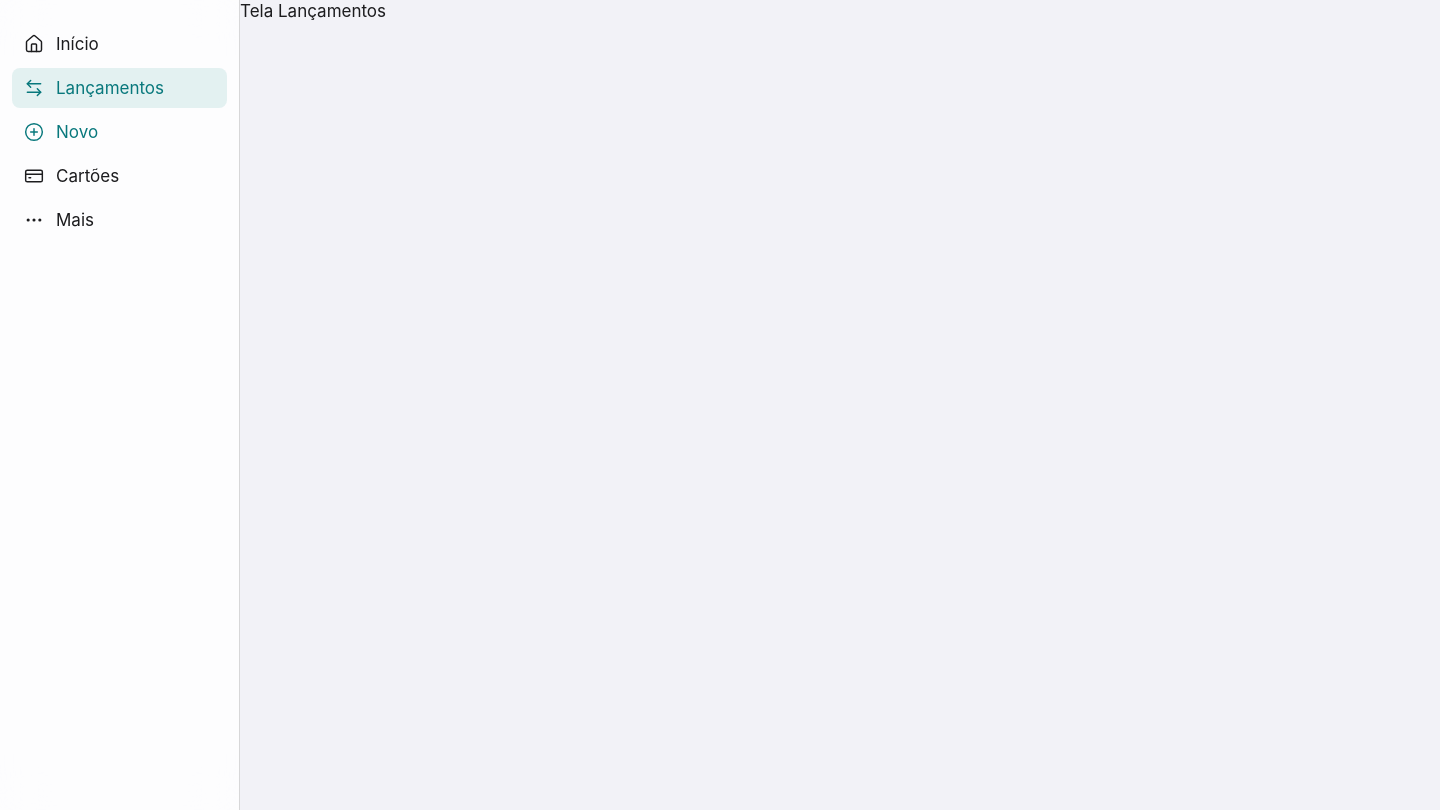
navegação principal › o ＋ abre a folha por cima, sem trocar de tela
Click the button with aria-label "Novo lançamento" at (120, 132), box [12, 112, 227, 152]
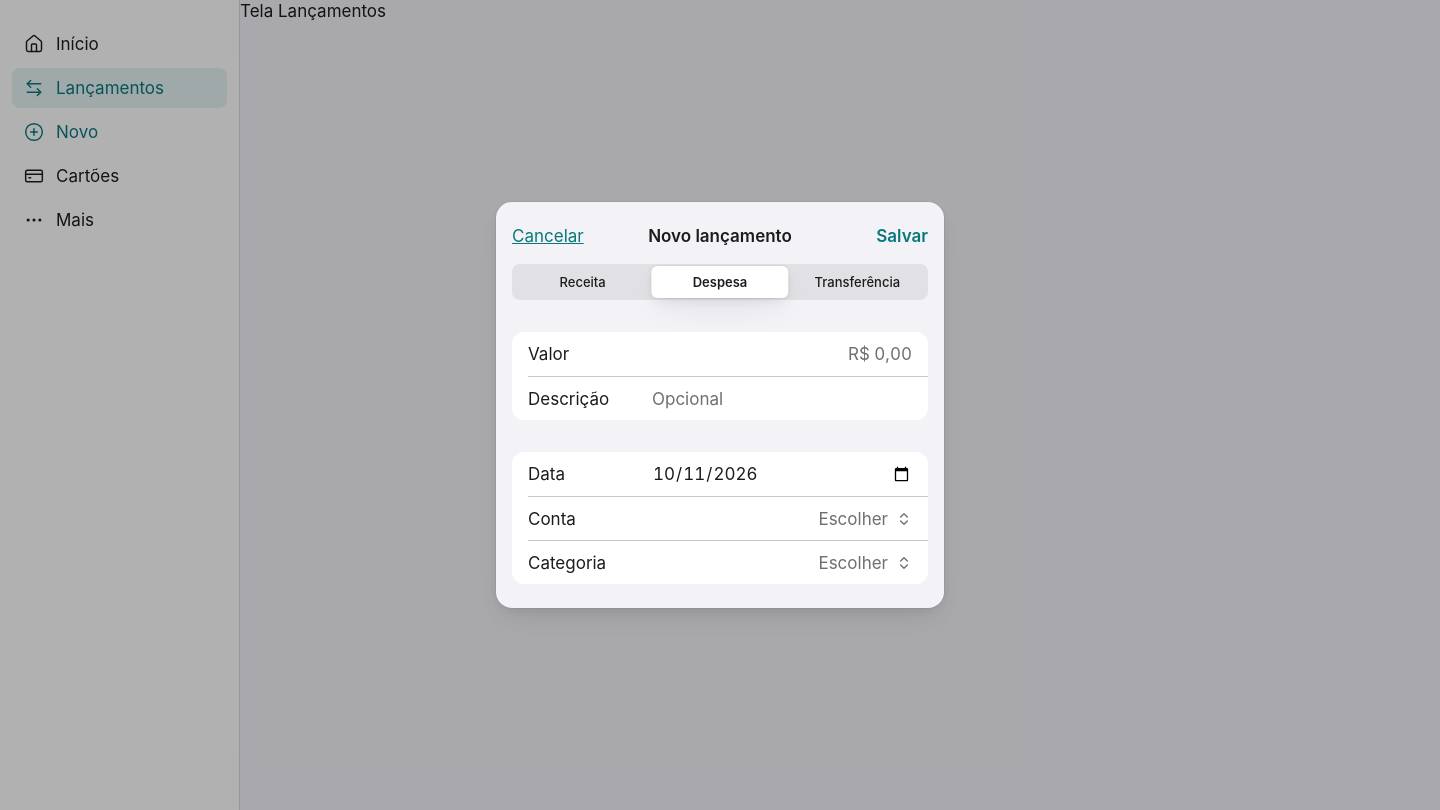
Result: the dialog "Novo lançamento" is shown at [496, 202, 944, 608]
